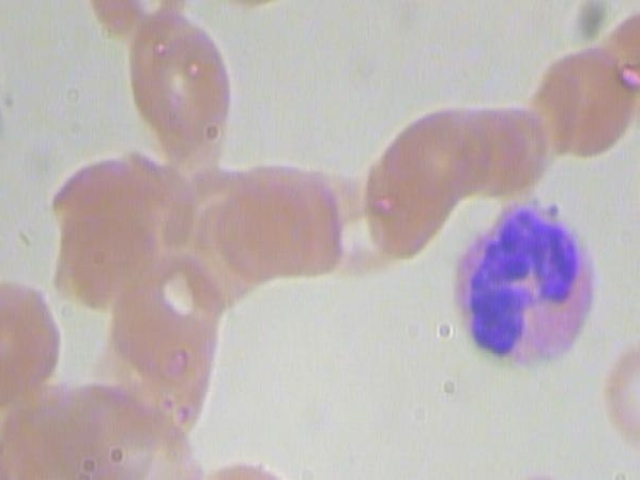RBC: (112, 1, 249, 165), (219, 169, 327, 292), (297, 163, 405, 286), (247, 162, 355, 284), (531, 36, 638, 159), (0, 276, 75, 406), (80, 0, 212, 47), (594, 342, 640, 450), (186, 0, 322, 16)
WBC: (438, 192, 620, 386)
